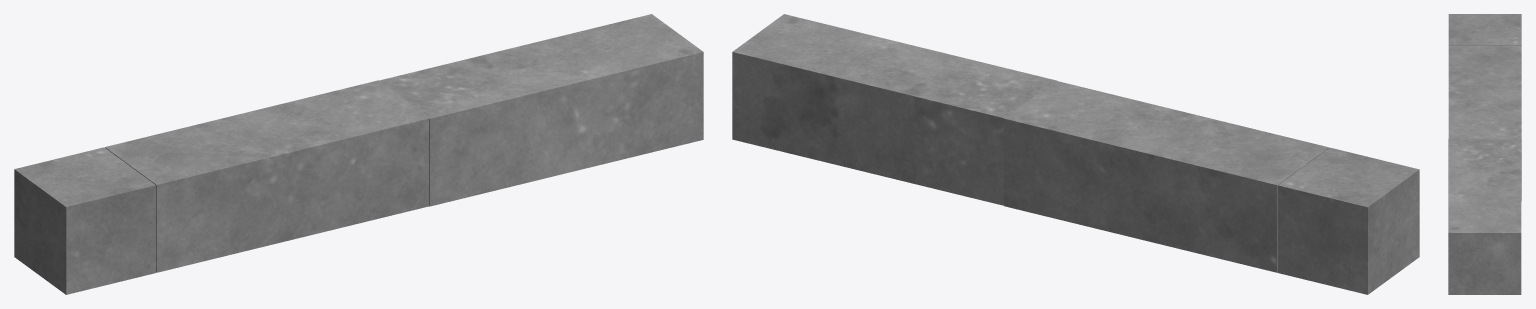
File: MetalVentilaciones.fbx
3 renders of one model, left to right at view 1: azimuth 30°, elevation 25°; view 2: azimuth 150°, elevation 25°; view 3: azimuth 270°, elevation 25°, orthographic. The views are drawn at different scales.
Parts seen in each view (by area): view 1: Cube.107, Cube.108, Cube.106; view 2: Cube.107, Cube.108, Cube.106; view 3: Cube.108, Cube.107, Cube.106.
Part boxes in pixels (<box>): Cube.107: <box>105,80,430,272</box>; Cube.108: <box>379,14,703,206</box>; Cube.106: <box>14,147,155,294</box>; Cube.107: <box>1004,80,1329,272</box>; Cube.108: <box>732,14,1056,205</box>; Cube.106: <box>1278,147,1419,294</box>; Cube.108: <box>1448,139,1521,294</box>; Cube.107: <box>1448,45,1521,200</box>; Cube.106: <box>1448,14,1521,45</box>.
Bounding box in the file's own units: 613 × 80.7 × 87.06.
1 material, 1 textured.
